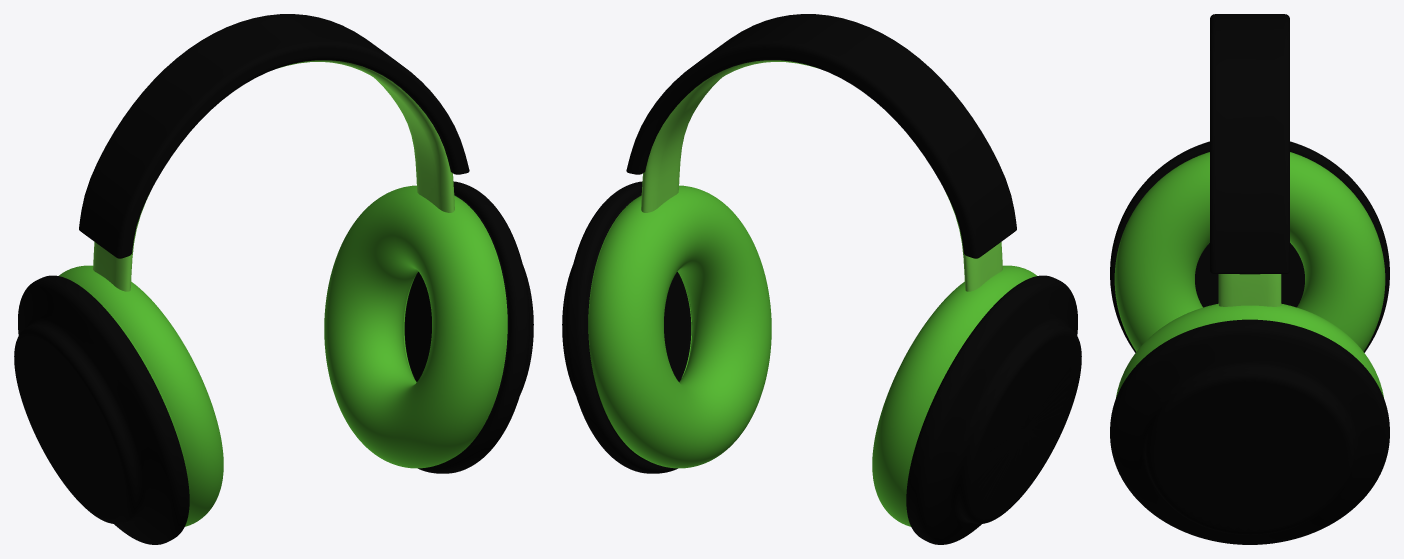
File: headphones.glb
3 views of the same model, side by side, from view 1: azimuth 30°, elevation 25°; view 2: azimuth 150°, elevation 25°; view 3: azimuth 270°, elevation 25° (orthographic). The views are drawn at different scales.
Parts seen in each view (by area): view 1: Torus; view 2: Torus; view 3: Torus.
Boxes of the visible parts, bbox=[...] form: Torus: bbox=[14, 14, 533, 544]; Torus: bbox=[562, 14, 1081, 544]; Torus: bbox=[1110, 14, 1389, 544].
Bounding box in the file's own units: 2.22 × 2.2 × 1.25.
